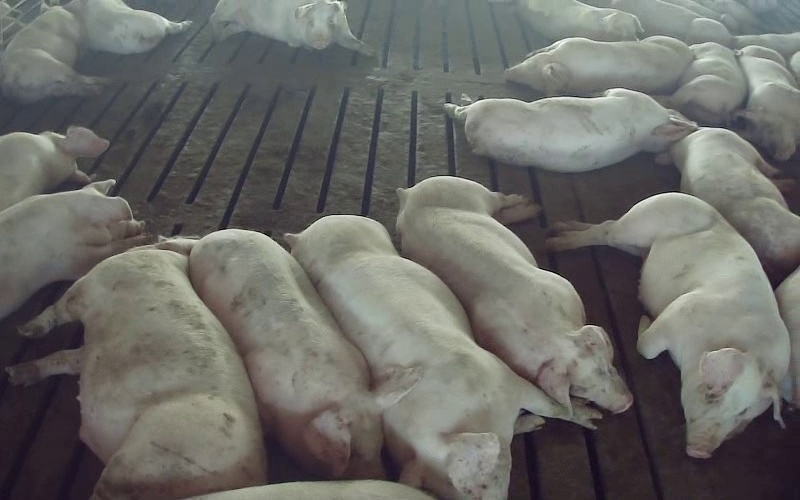pig: (288, 216, 598, 499), (7, 249, 265, 499), (547, 193, 788, 456), (189, 229, 417, 477), (397, 176, 631, 412), (657, 127, 799, 285), (444, 88, 696, 171), (0, 180, 147, 318), (505, 36, 692, 95), (0, 126, 108, 210), (210, 0, 372, 54), (737, 45, 799, 160), (670, 42, 746, 124), (78, 0, 191, 53), (516, 0, 642, 40)
